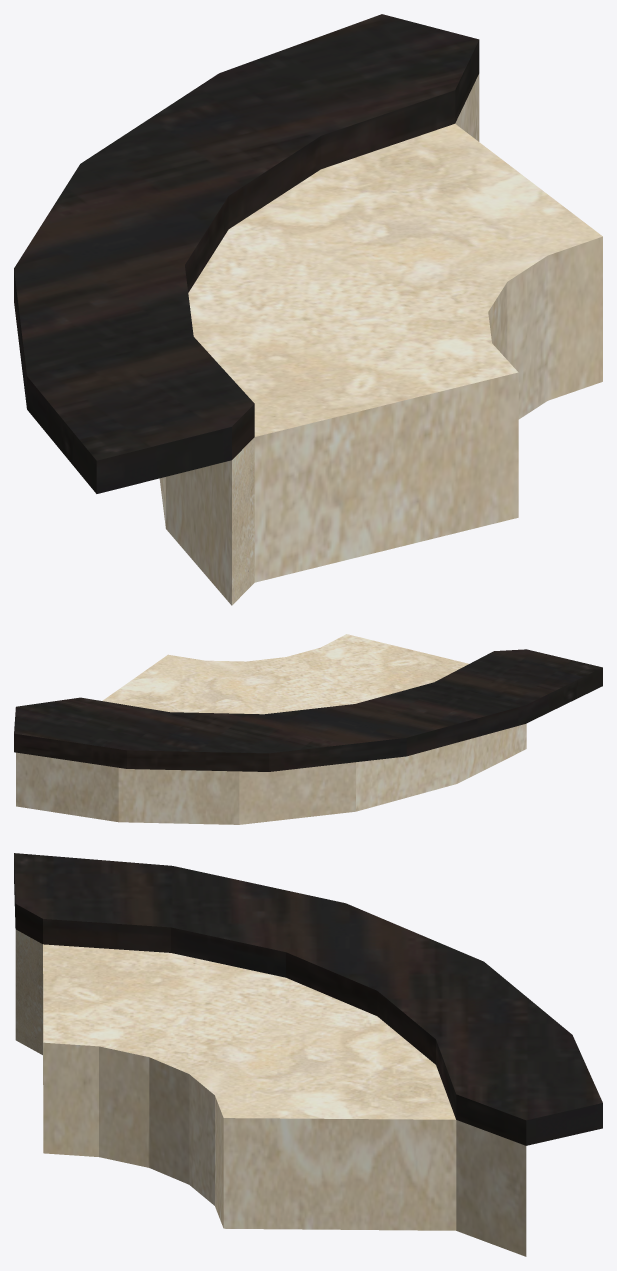
Rendered from island.fbx.
3 renders of one model, top to bottom at view 1: azimuth 30°, elevation 25°; view 2: azimuth 150°, elevation 25°; view 3: azimuth 270°, elevation 25°, orthographic. The views are drawn at different scales.
Visible parts, largest first — view 1: pCylinder1; view 2: pCylinder1; view 3: pCylinder1.
Part boxes in pixels (x1,y1,x2,y2): pCylinder1: (14,14,602,605); pCylinder1: (14,634,602,824); pCylinder1: (14,853,602,1256).
Bounding box in the file's own units: 2.59 × 0.6172 × 2.41.
Materials: 1 (1 with a texture image).
